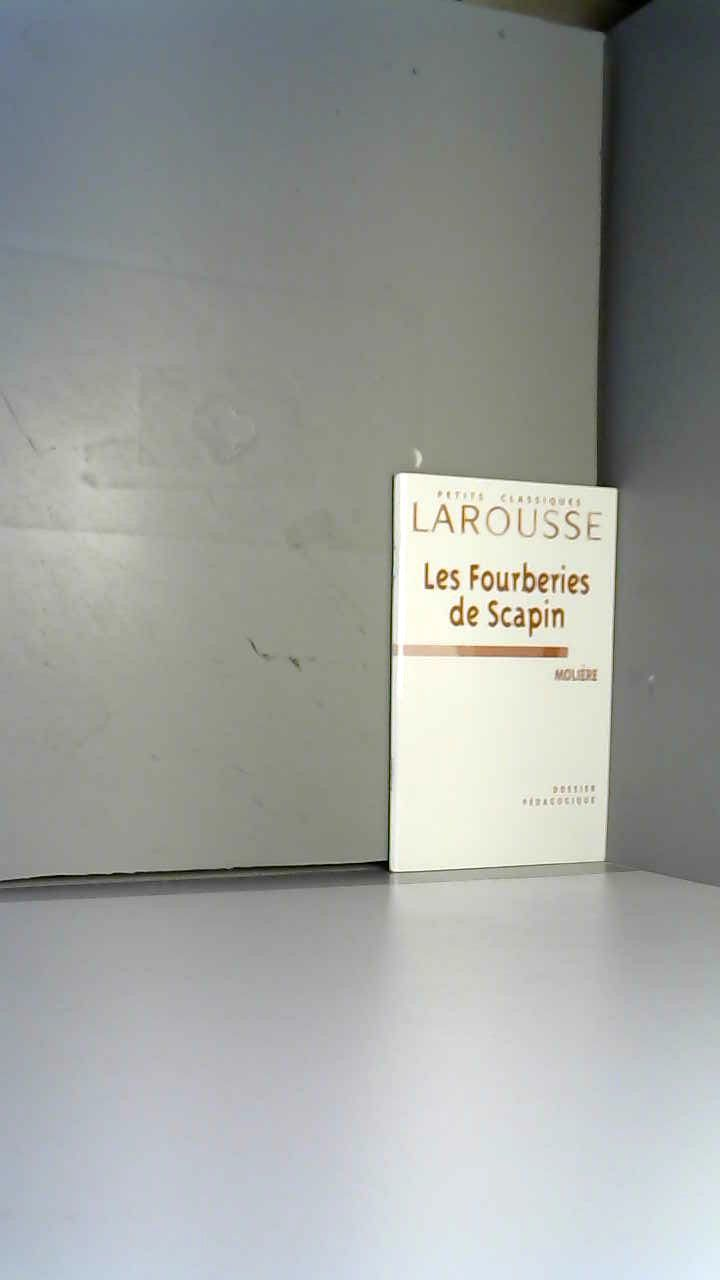book: (368, 456, 627, 889)
